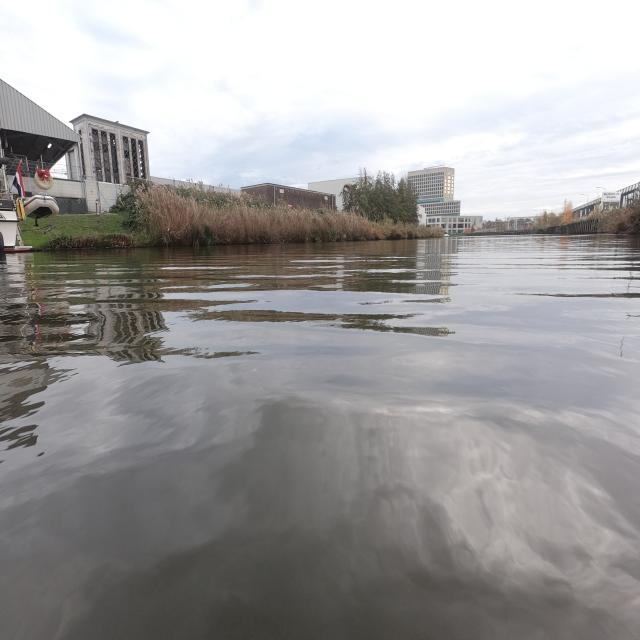grass: (19, 214, 131, 249)
reed: (135, 186, 443, 246)
sky: (3, 1, 638, 217)
water: (1, 233, 638, 639)
